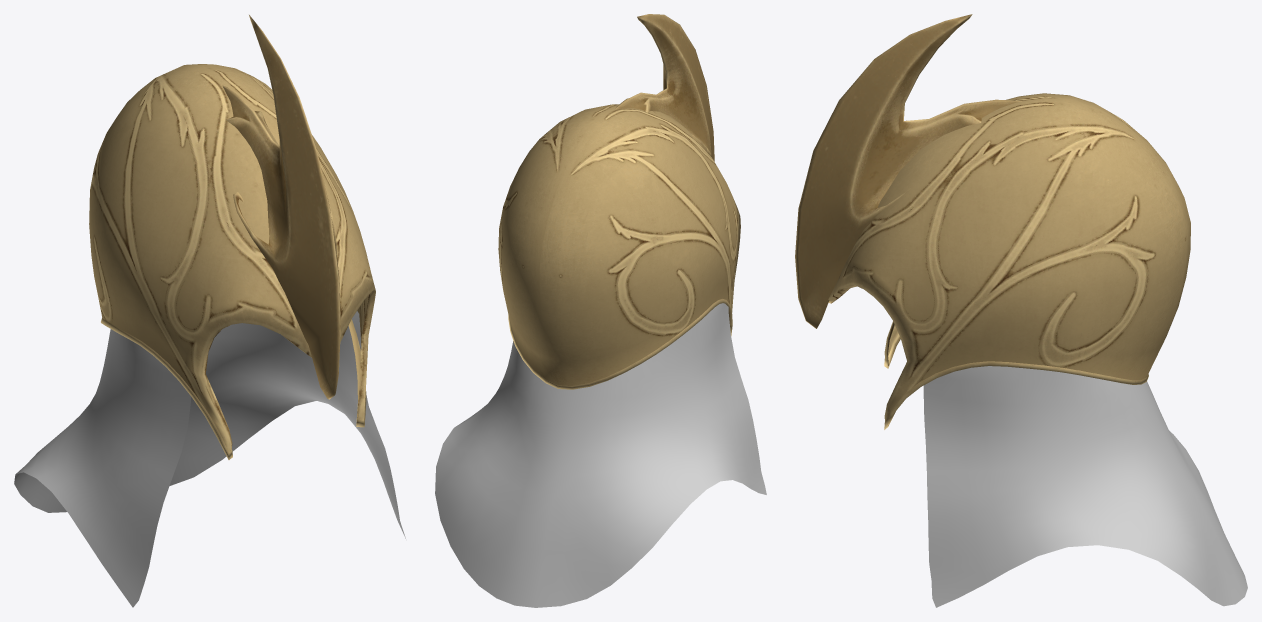
File: rivendell_helmet_archer_tier2.fbx
3 renders of one model, left to right at view 1: azimuth 30°, elevation 25°; view 2: azimuth 150°, elevation 25°; view 3: azimuth 270°, elevation 25°, orthographic. The views are drawn at different scales.
Visible parts, largest first — view 1: rivendell_helmet_archer_tier2.1, rivendell_helmet_archer_tier2.2, rivendell_helmet_archer_tier2.0; view 2: rivendell_helmet_archer_tier2.2, rivendell_helmet_archer_tier2.1, rivendell_helmet_archer_tier2.0; view 3: rivendell_helmet_archer_tier2.1, rivendell_helmet_archer_tier2.2, rivendell_helmet_archer_tier2.0.
Part boxes in pixels (x1,y1,x2,y2): rivendell_helmet_archer_tier2.1: (89, 64, 375, 459); rivendell_helmet_archer_tier2.2: (14, 311, 405, 607); rivendell_helmet_archer_tier2.0: (222, 15, 340, 399); rivendell_helmet_archer_tier2.2: (435, 303, 766, 607); rivendell_helmet_archer_tier2.1: (498, 104, 740, 389); rivendell_helmet_archer_tier2.0: (615, 14, 714, 161); rivendell_helmet_archer_tier2.1: (828, 93, 1190, 429); rivendell_helmet_archer_tier2.2: (923, 366, 1247, 607); rivendell_helmet_archer_tier2.0: (795, 14, 1022, 328).
Bounding box in the file's own units: 0.2542 × 0.3438 × 0.4796.
